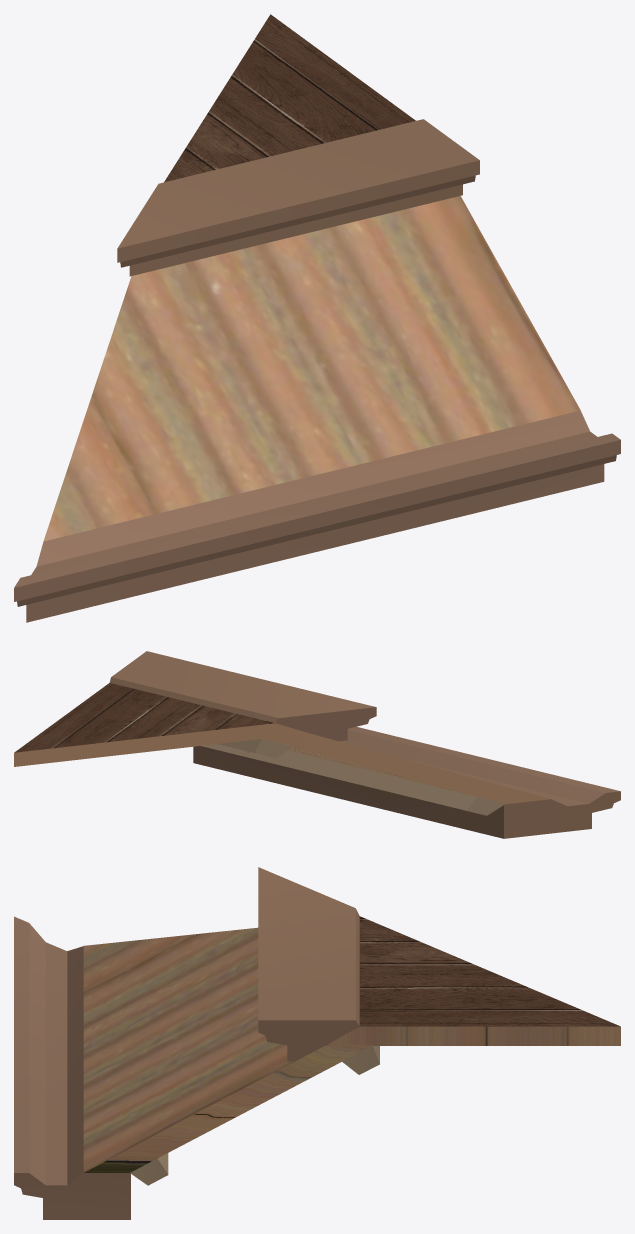
Rendered from SEMI ROOF 01.fbx.
3 views of the same model, one above another, from view 1: azimuth 30°, elevation 25°; view 2: azimuth 150°, elevation 25°; view 3: azimuth 270°, elevation 25° (orthographic). The views are drawn at different scales.
Parts seen in each view (by area): view 1: SemiRoof01; view 2: SemiRoof01; view 3: SemiRoof01.
Part boxes in pixels (x1=…): SemiRoof01: x1=14, y1=14, x2=620, y2=622; SemiRoof01: x1=14, y1=651, x2=620, y2=838; SemiRoof01: x1=14, y1=867, x2=620, y2=1219.
Size of the model in its own units: 295 by 107 by 295.
